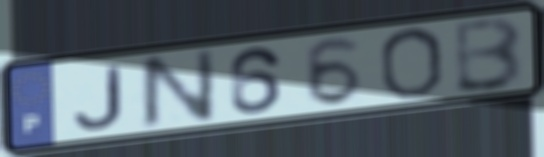6: (302, 34, 365, 109), (226, 45, 285, 116)
B: (451, 14, 528, 96)
J: (71, 62, 128, 131)
N: (135, 46, 219, 133)
O: (376, 24, 446, 102)
